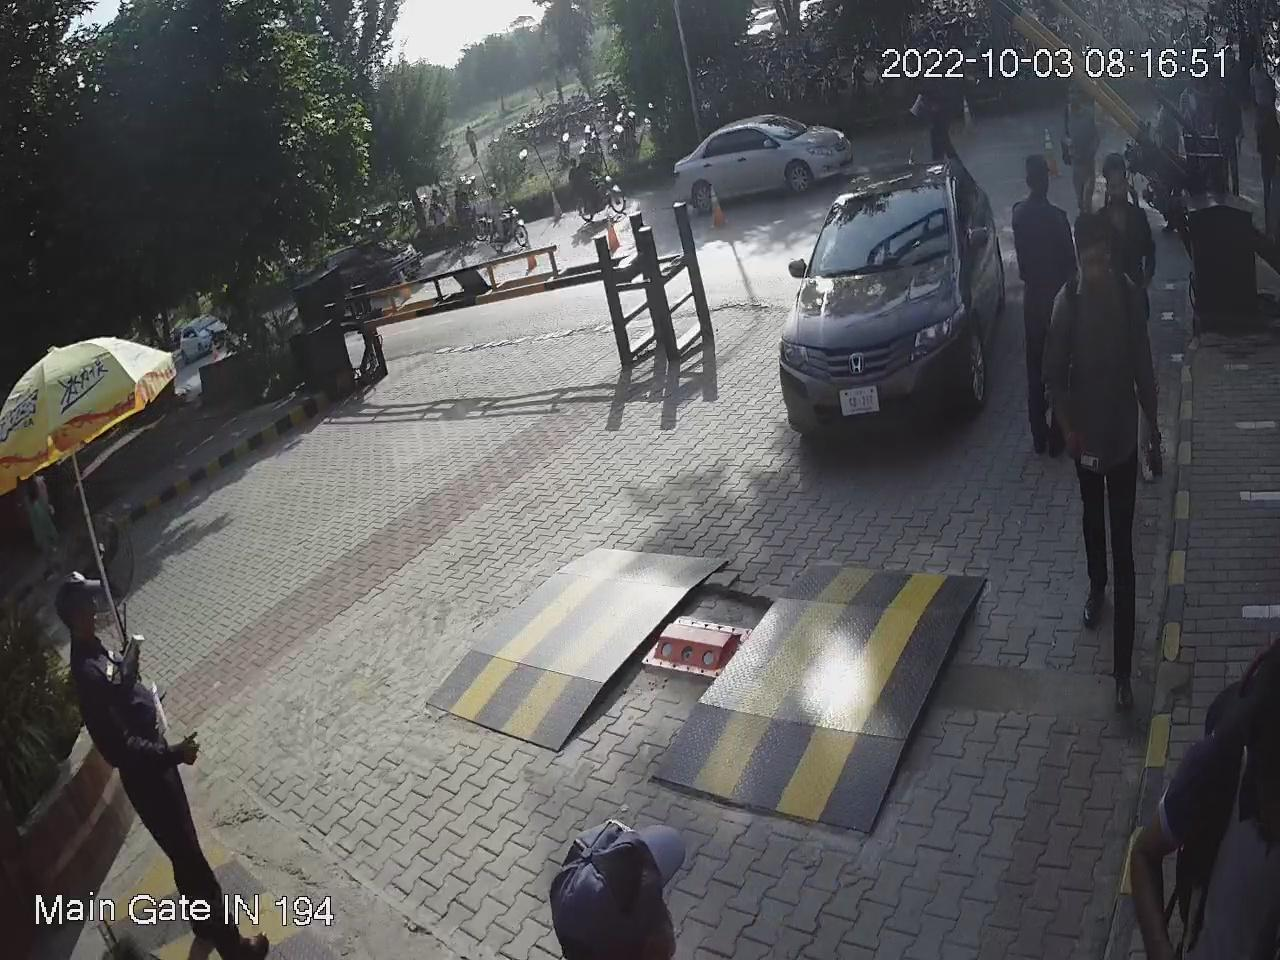windshield: (803, 177, 955, 282)
